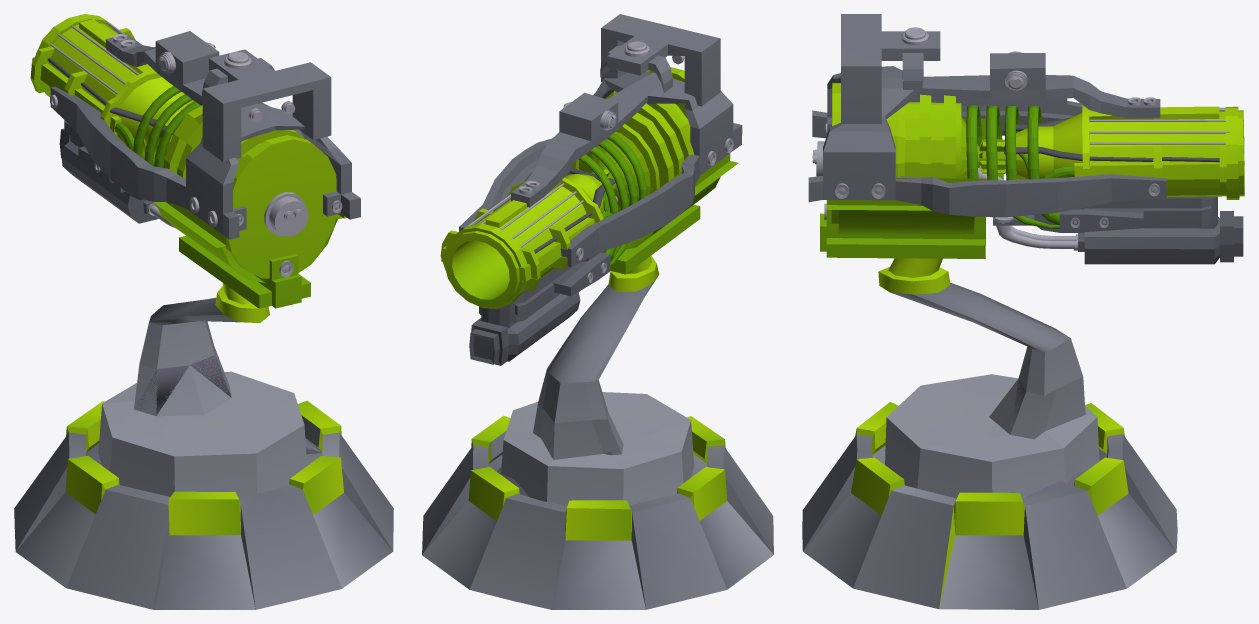
The model's file is Breakable_Gun_02.fbx.
3 renders of one model, left to right at view 1: azimuth 30°, elevation 25°; view 2: azimuth 150°, elevation 25°; view 3: azimuth 270°, elevation 25°, orthographic. The views are drawn at different scales.
Parts seen in each view (by area): view 1: polySurface230, polySurface408, polySurface395, polySurface396, polySurface232, polySurface394, polySurface398, polySurface407, polySurface231, scifihypersonic_cylinder114, polySurface227; view 2: polySurface232, polySurface230, polySurface395, polySurface396, polySurface408, polySurface398, polySurface394, polySurface231, polySurface407, polySurface227; view 3: polySurface232, polySurface230, polySurface395, polySurface408, polySurface396, polySurface398, polySurface394, polySurface407, polySurface231, polySurface227, scifihypersonic_line11.
Part boxes in pixels (bbox=[...]): polySurface230: bbox=[14, 355, 393, 609]; polySurface408: bbox=[147, 103, 346, 308]; polySurface395: bbox=[50, 31, 360, 239]; polySurface396: bbox=[30, 14, 194, 160]; polySurface232: bbox=[66, 321, 341, 454]; polySurface394: bbox=[202, 49, 331, 161]; polySurface398: bbox=[59, 120, 163, 223]; polySurface407: bbox=[109, 86, 200, 194]; polySurface231: bbox=[149, 297, 239, 324]; scifihypersonic_cylinder114: bbox=[264, 192, 308, 236]; polySurface227: bbox=[215, 283, 269, 322]; polySurface232: bbox=[422, 369, 645, 609]; polySurface230: bbox=[497, 392, 773, 609]; polySurface395: bbox=[459, 72, 742, 267]; polySurface396: bbox=[440, 174, 603, 308]; polySurface408: bbox=[565, 67, 738, 274]; polySurface398: bbox=[469, 250, 611, 365]; polySurface394: bbox=[600, 14, 720, 106]; polySurface231: bbox=[547, 276, 657, 382]; polySurface407: bbox=[567, 133, 647, 266]; polySurface227: bbox=[608, 255, 659, 291]; polySurface232: bbox=[939, 338, 1177, 609]; polySurface230: bbox=[802, 374, 1084, 608]; polySurface395: bbox=[808, 53, 1166, 217]; polySurface408: bbox=[820, 83, 1005, 258]; polySurface396: bbox=[1016, 105, 1244, 199]; polySurface398: bbox=[993, 196, 1243, 264]; polySurface394: bbox=[841, 14, 940, 123]; polySurface407: bbox=[966, 105, 1082, 228]; polySurface231: bbox=[890, 282, 1070, 351]; polySurface227: bbox=[878, 258, 950, 294]; scifihypersonic_line11: bbox=[995, 217, 1077, 250].
Bounding box in the file's own units: 147 × 215 × 174.
3 materials, 3 textured.
